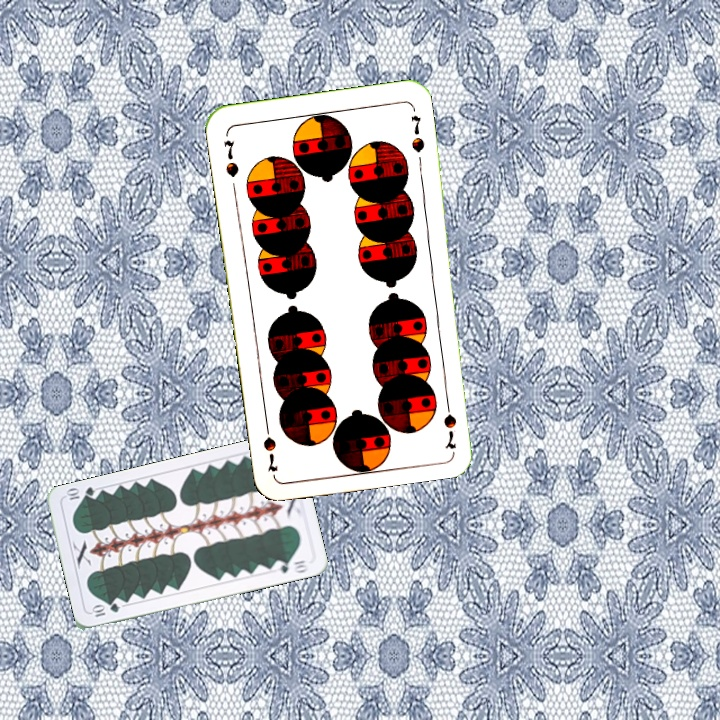G10: (88, 599, 122, 620)
S7: (440, 392, 459, 451), (219, 135, 241, 180)
